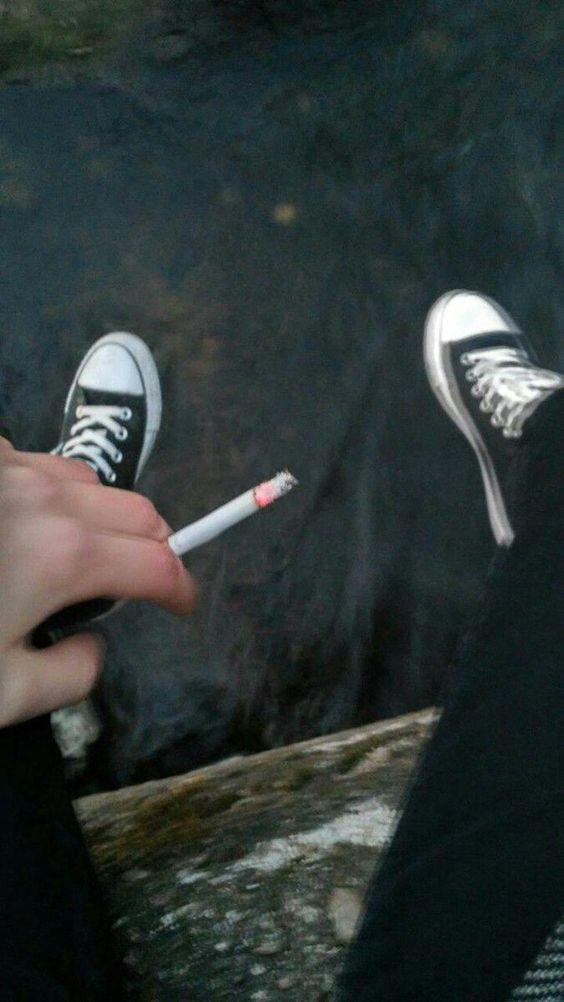cigarette: (154, 469, 300, 557)
